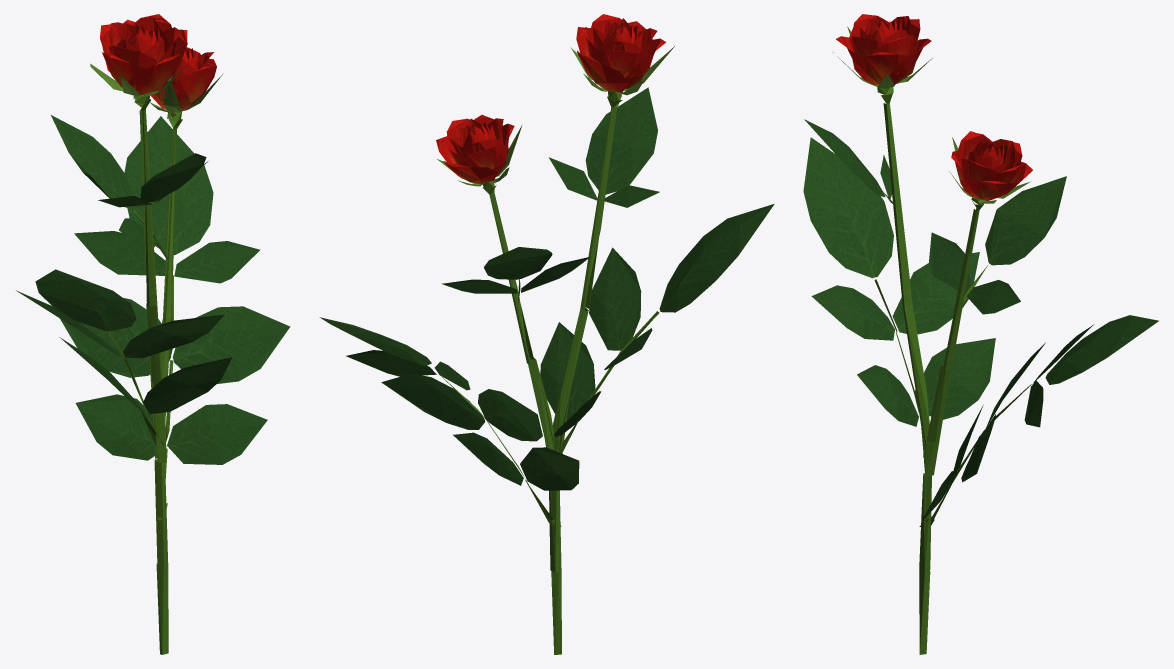
The model's file is google poly (1).glb.
3 views of the same model, side by side, from view 1: azimuth 30°, elevation 25°; view 2: azimuth 150°, elevation 25°; view 3: azimuth 270°, elevation 25° (orthographic). The views are drawn at different scales.
Visible parts, largest first — view 1: node-0; view 2: node-0; view 3: node-0.
Part boxes in pixels (bbox=[...]): node-0: bbox=[16, 14, 290, 654]; node-0: bbox=[319, 14, 774, 654]; node-0: bbox=[803, 14, 1158, 654].
Bounding box in the file's own units: 478 × 911 × 480.
Materials: 1 (1 with a texture image).
